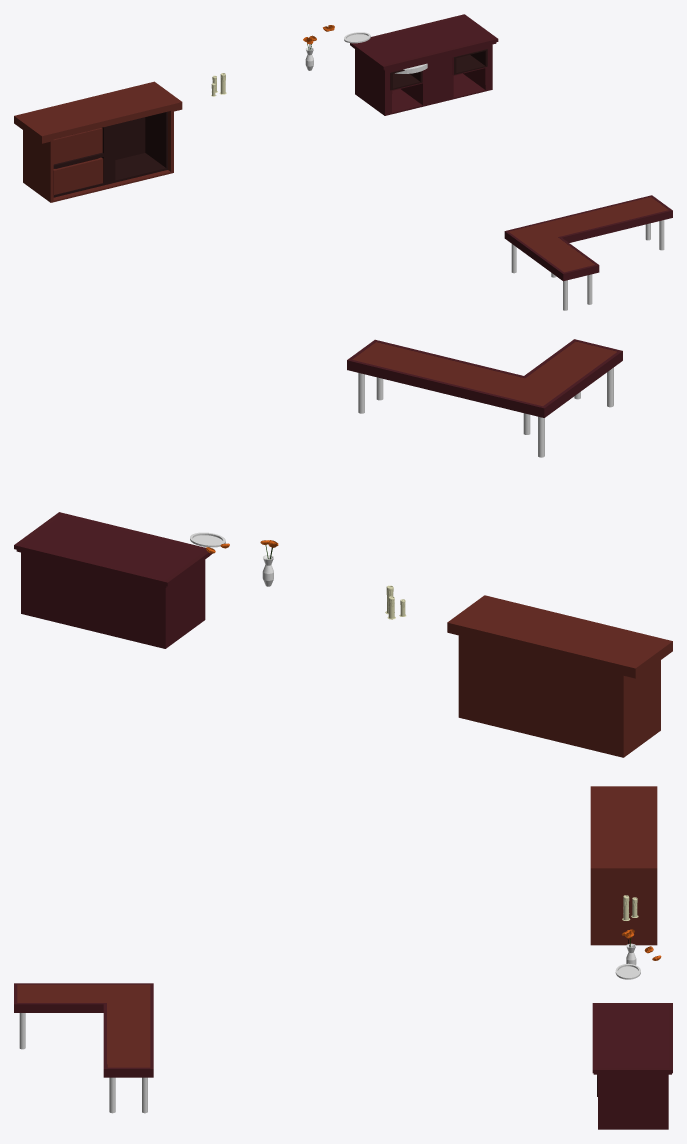
File: decos.fbx
3 renders of one model, top to bottom at view 1: azimuth 30°, elevation 25°; view 2: azimuth 150°, elevation 25°; view 3: azimuth 270°, elevation 25°, orthographic. The views are drawn at different scales.
Parts seen in each view (by area): view 1: Cube.007, Cube.011, TablaMesa, BordeMesa; view 2: Cube.007, Cube.011, TablaMesa, BordeMesa; view 3: Cube.007, Cube.011, TablaMesa, BordeMesa.
Boxes of the visible parts, left/top/right/bottom form: Cube.007: left=14, top=81, right=182, bottom=202; Cube.011: left=350, top=14, right=498, bottom=115; TablaMesa: left=509, top=197, right=668, bottom=272; BordeMesa: left=504, top=195, right=672, bottom=281; Cube.007: left=447, top=595, right=672, bottom=757; Cube.011: left=14, top=512, right=212, bottom=648; TablaMesa: left=352, top=341, right=616, bottom=406; BordeMesa: left=347, top=339, right=622, bottom=417; Cube.007: left=590, top=786, right=657, bottom=945; Cube.011: left=592, top=1003, right=672, bottom=1129; TablaMesa: left=17, top=984, right=150, bottom=1067; BordeMesa: left=14, top=983, right=153, bottom=1077.
Size of the model in its own units: 1892 by 342 by 1981.
